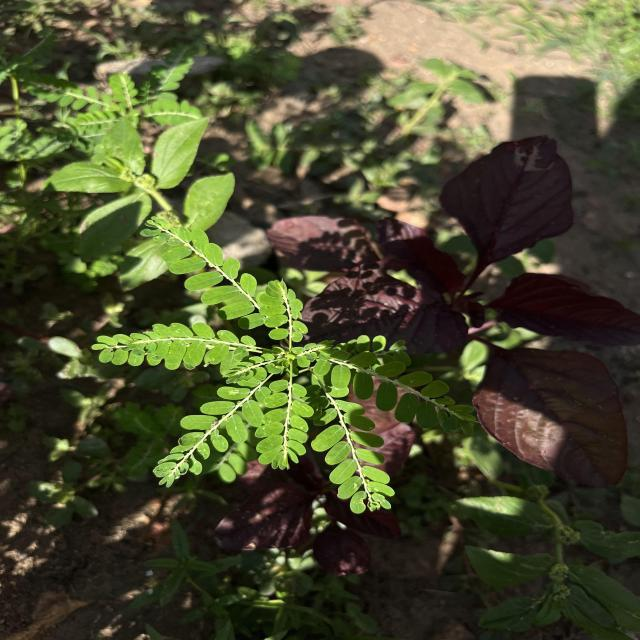Phyllanthus niruri: (308, 346, 481, 436), (139, 210, 266, 328), (150, 378, 263, 492), (308, 374, 397, 514), (91, 320, 256, 370), (252, 378, 314, 472), (257, 276, 310, 346)
